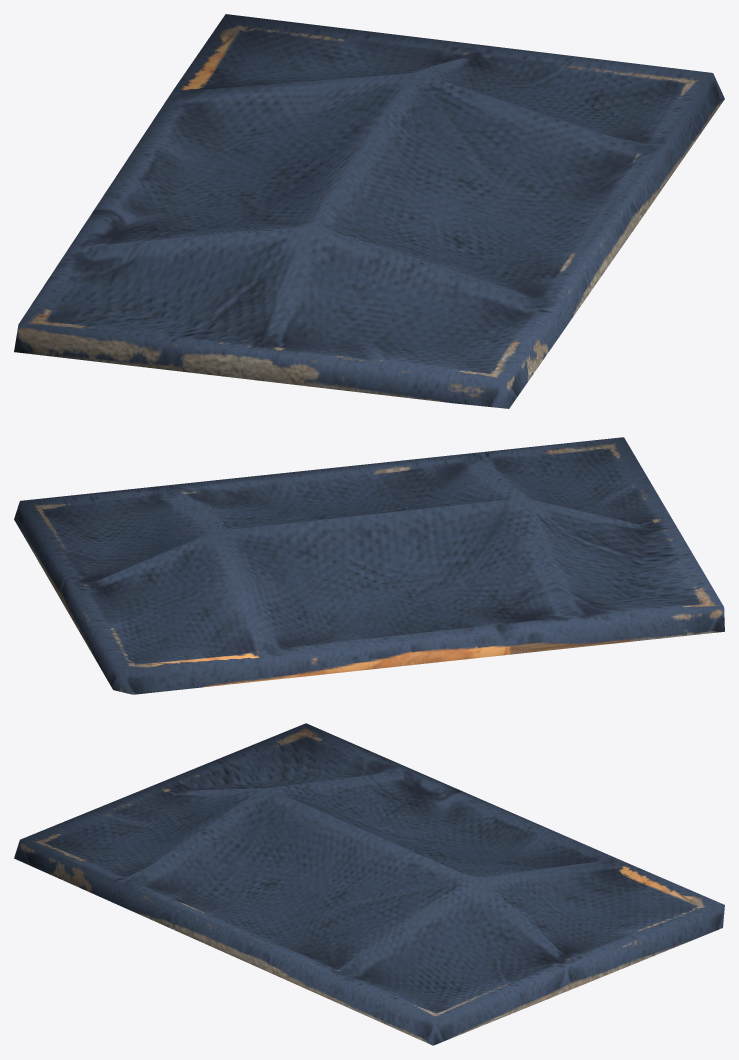
File: newCabinaTecho.fbx
The picture shows the model from 3 angles, top to bottom: view 1: azimuth 30°, elevation 25°; view 2: azimuth 150°, elevation 25°; view 3: azimuth 270°, elevation 25°; orthographic projection. The views are drawn at different scales.
Visible parts, largest first — view 1: newCabinaTecho; view 2: newCabinaTecho; view 3: newCabinaTecho.
Part boxes in pixels (<box>): newCabinaTecho: <box>14,14,724,408</box>; newCabinaTecho: <box>14,437,724,694</box>; newCabinaTecho: <box>14,723,724,1045</box>.
Bounding box in the file's own units: 286 × 26.82 × 283.
